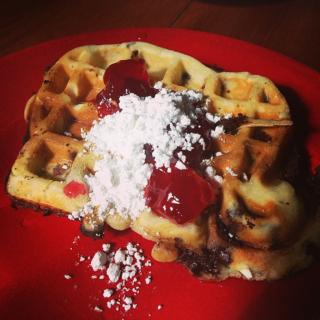Waffle: (5, 41, 319, 281)
